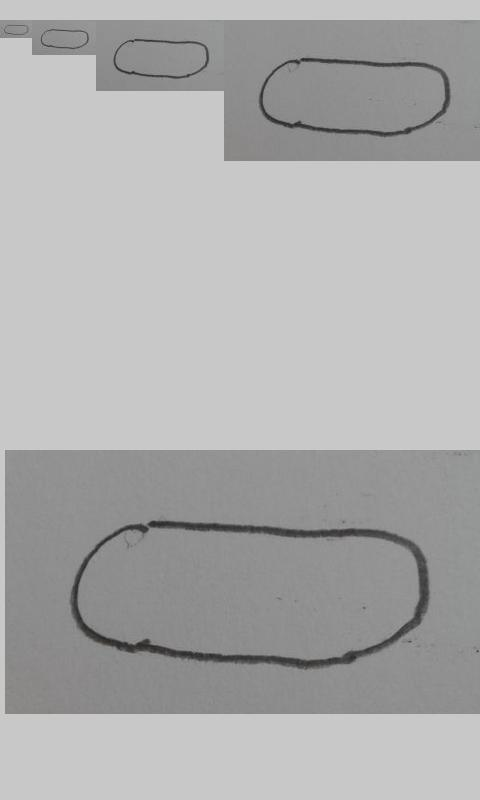chip: (68, 519, 429, 670), (259, 57, 451, 137), (113, 38, 210, 79), (40, 28, 90, 49), (4, 24, 30, 35)
